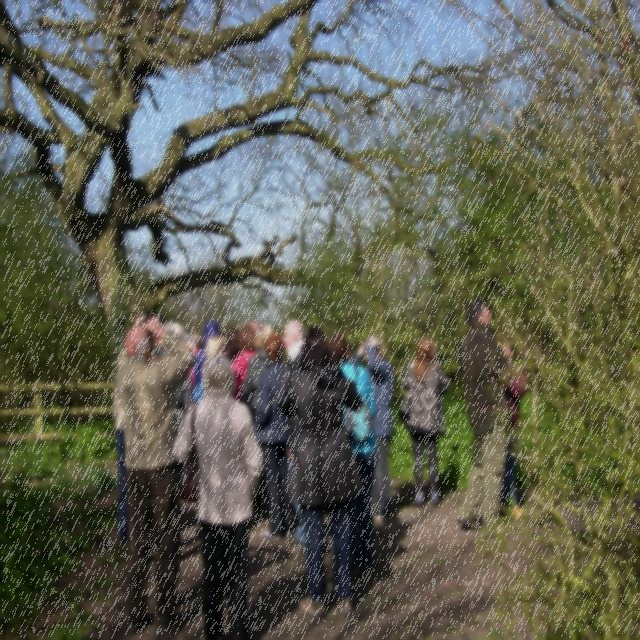pessoa: (112, 310, 194, 637), (172, 353, 265, 640), (276, 322, 364, 620), (324, 329, 378, 577), (456, 296, 509, 538), (282, 318, 328, 558), (395, 333, 455, 510), (250, 330, 296, 542), (351, 333, 396, 525), (146, 315, 296, 372), (240, 327, 274, 512), (498, 333, 528, 521), (158, 319, 190, 434), (114, 372, 128, 546), (193, 320, 226, 384), (231, 325, 258, 403), (231, 324, 257, 403), (204, 334, 229, 360)
